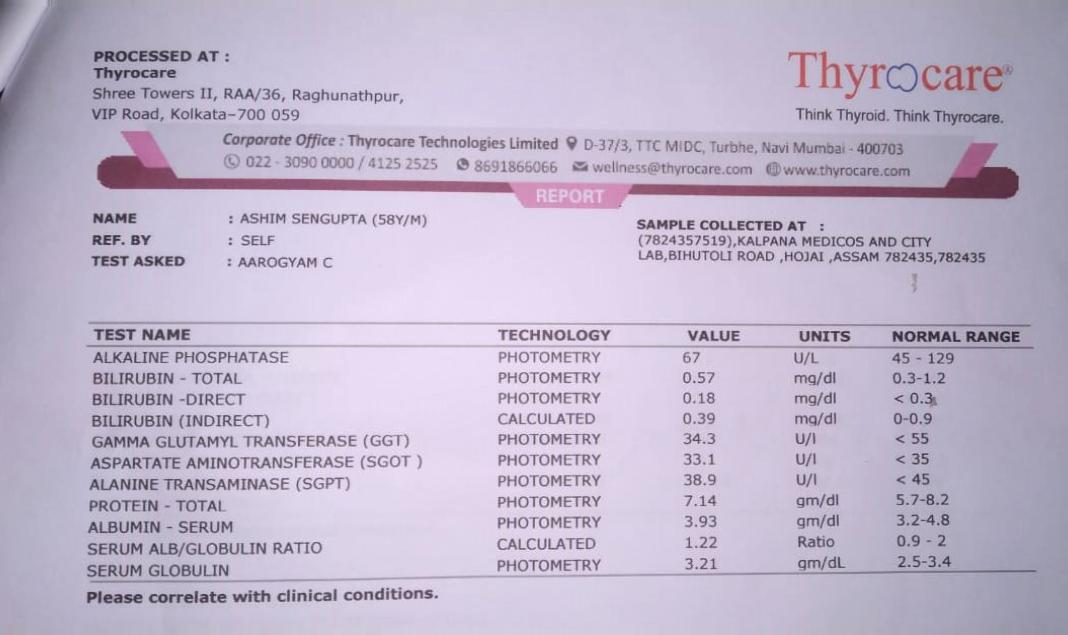Reference Range: (882, 345, 967, 574)
Test Name: (79, 345, 434, 583)
Units: (784, 346, 859, 575)
Value: (668, 345, 737, 576)
